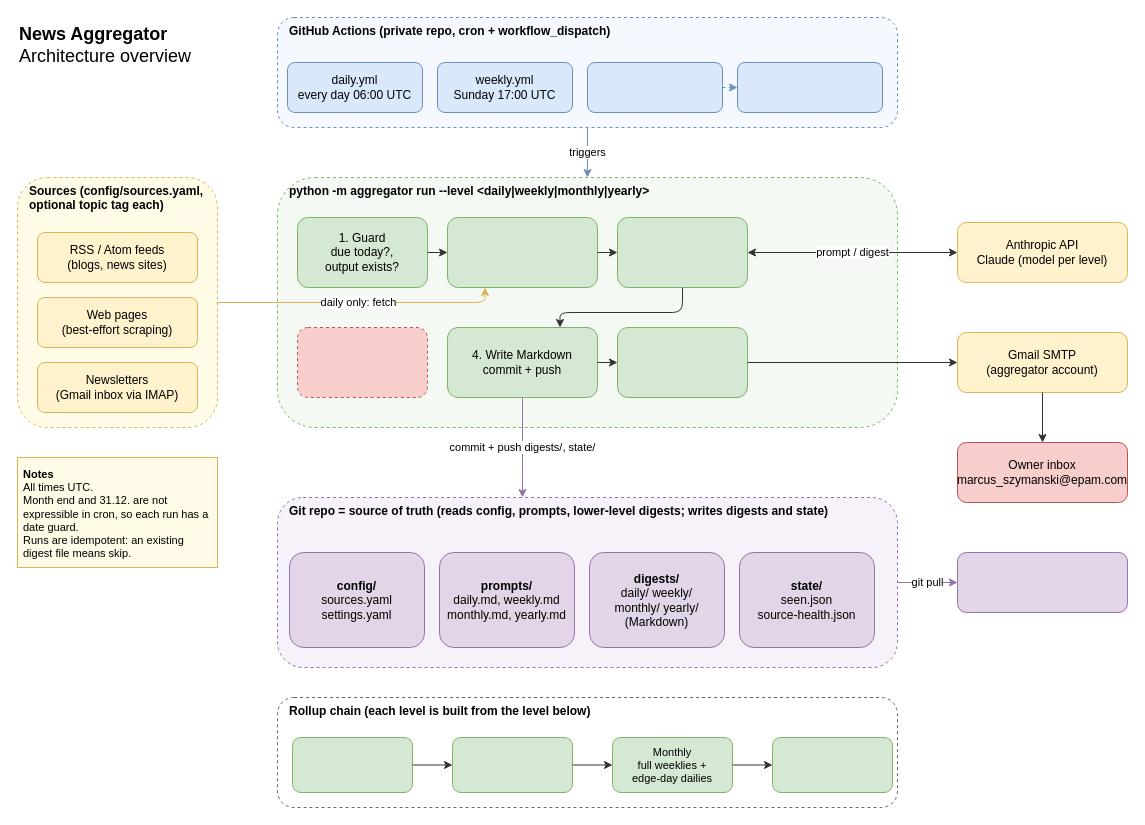
Some shapes in this 1145 by 825 pixel diagram are drawn without their labels. Here are the shapes that lost their labels. From the top down, the centre of each, then its label:
At [654,87]: "monthly.yml last day 20:00 UTC".
At [809,87]: "yearly job 31.12., needs: monthly".
At [522,252]: "2. Collect inputs daily: fetch + dedupe others: read lower digests".
At [682,252]: "3. Summarize per-level prompt, validate + retry".
At [362,362]: "On any failure: alert email".
At [682,362]: "5. Send email HTML + plain text".
At [1042,582]: "Owner device local clone (Markdown files)".
At [352,764]: "Daily new items".
At [512,764]: "Weekly Mon–Sun dailies".
At [832,764]: "Yearly monthlies".
